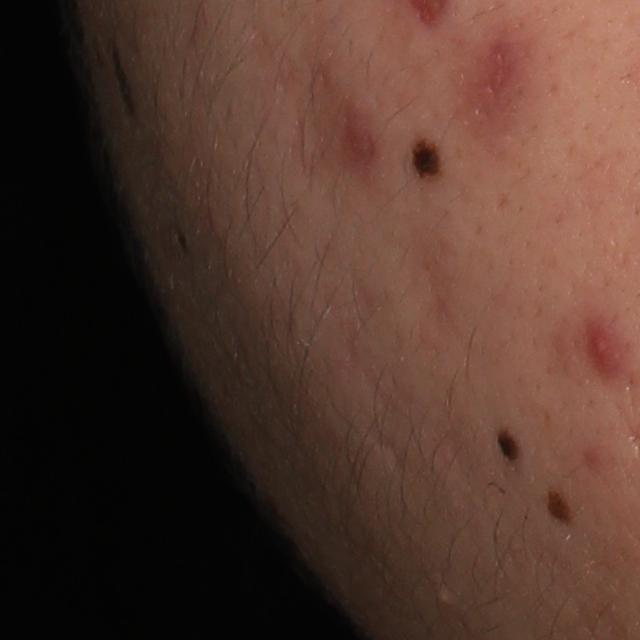atrophic_scar: (465, 29, 536, 161)
nevus: (410, 137, 446, 183), (541, 484, 570, 526), (494, 427, 524, 465)
papule: (584, 325, 622, 375)
